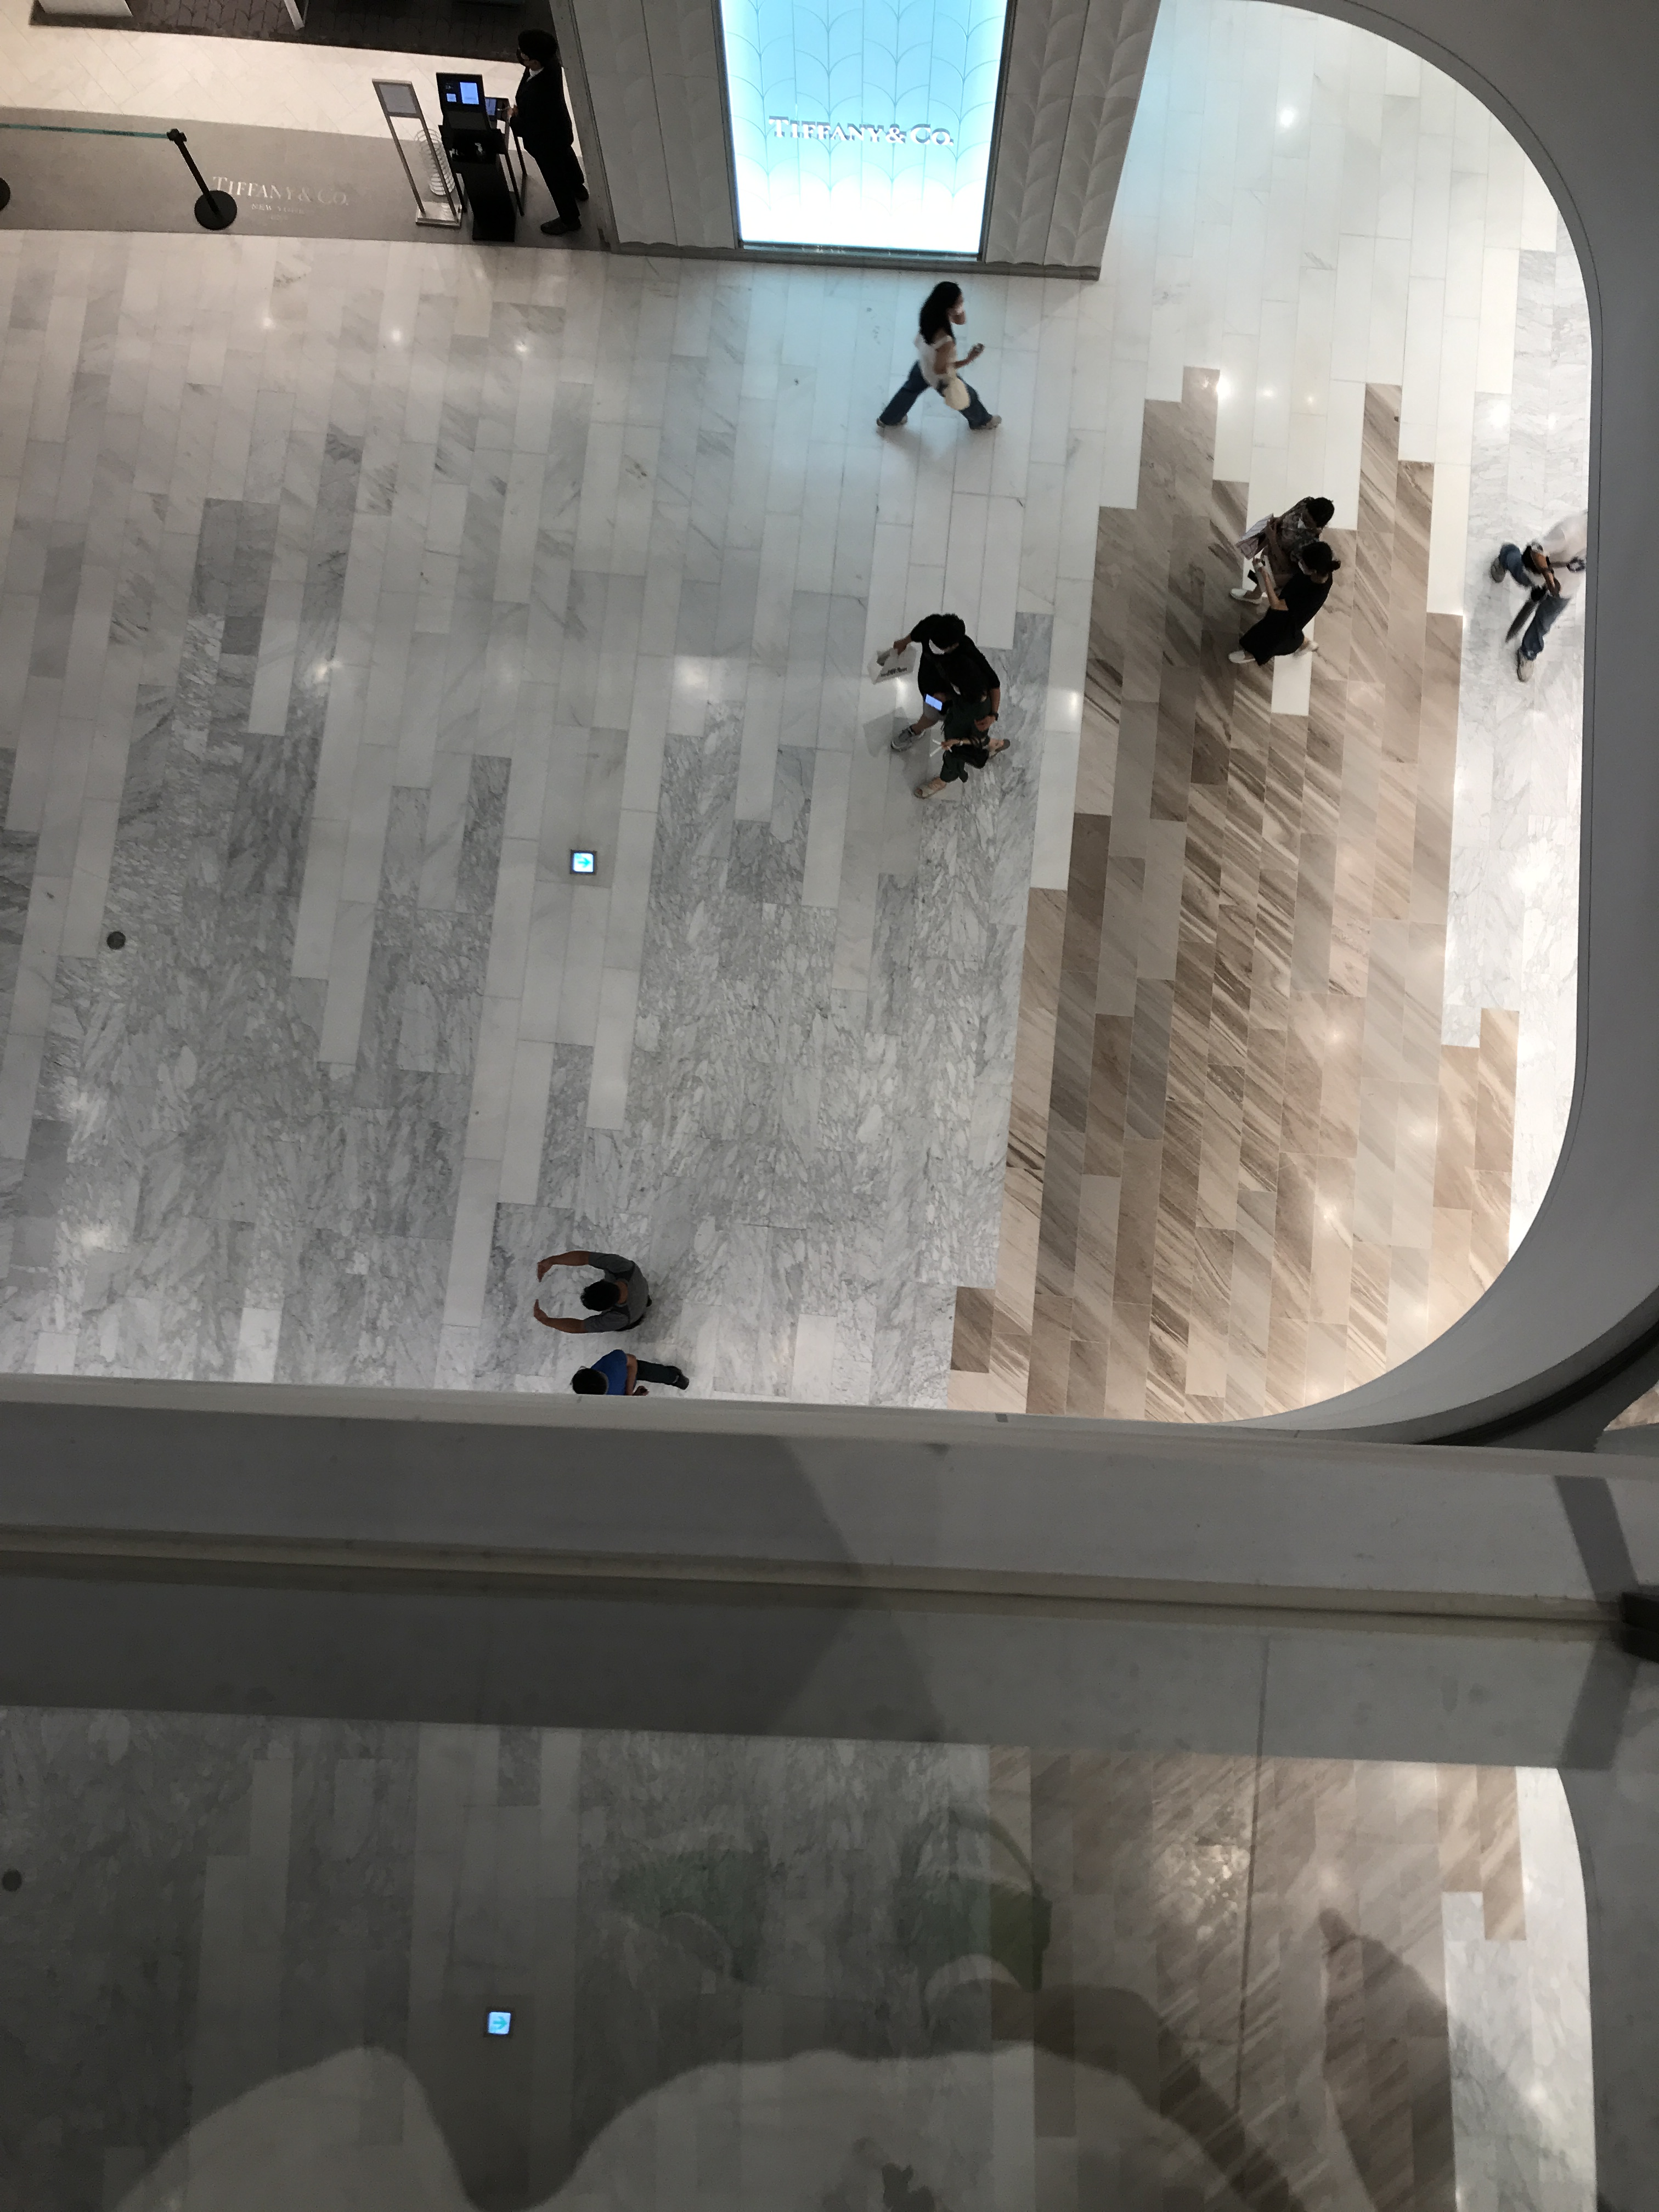person: (876, 280, 1007, 435), (1488, 509, 1590, 683), (506, 29, 591, 235), (872, 613, 981, 753), (1228, 542, 1339, 666), (912, 667, 1009, 805), (1227, 494, 1336, 607), (528, 1248, 652, 1336), (564, 1346, 692, 1398)
